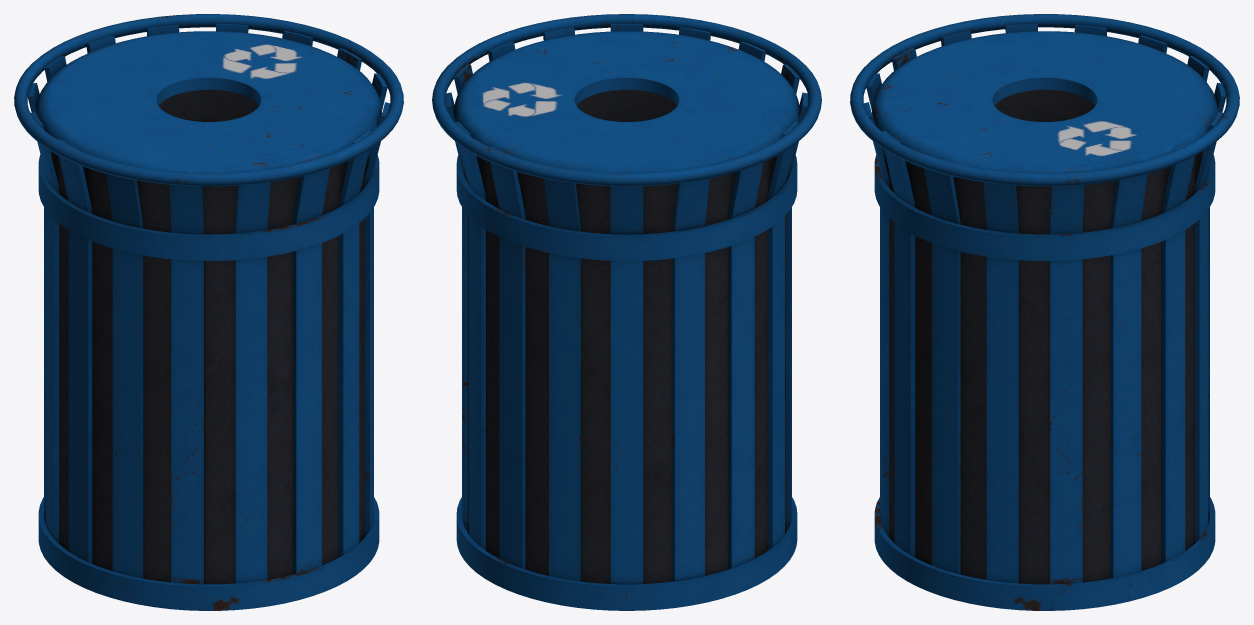
3 renders of one model, left to right at view 1: azimuth 30°, elevation 25°; view 2: azimuth 150°, elevation 25°; view 3: azimuth 270°, elevation 25°, orthographic.
Visible parts, largest first — view 1: Receptacle_Recycling_43; view 2: Receptacle_Recycling_43; view 3: Receptacle_Recycling_43.
Part boxes in pixels (bbox=[...]): Receptacle_Recycling_43: bbox=[14, 14, 403, 610]; Receptacle_Recycling_43: bbox=[432, 14, 821, 610]; Receptacle_Recycling_43: bbox=[850, 14, 1239, 610].
Size of the model in its own units: 0.7362 by 0.9271 by 0.7362.
1 material, 1 textured.
